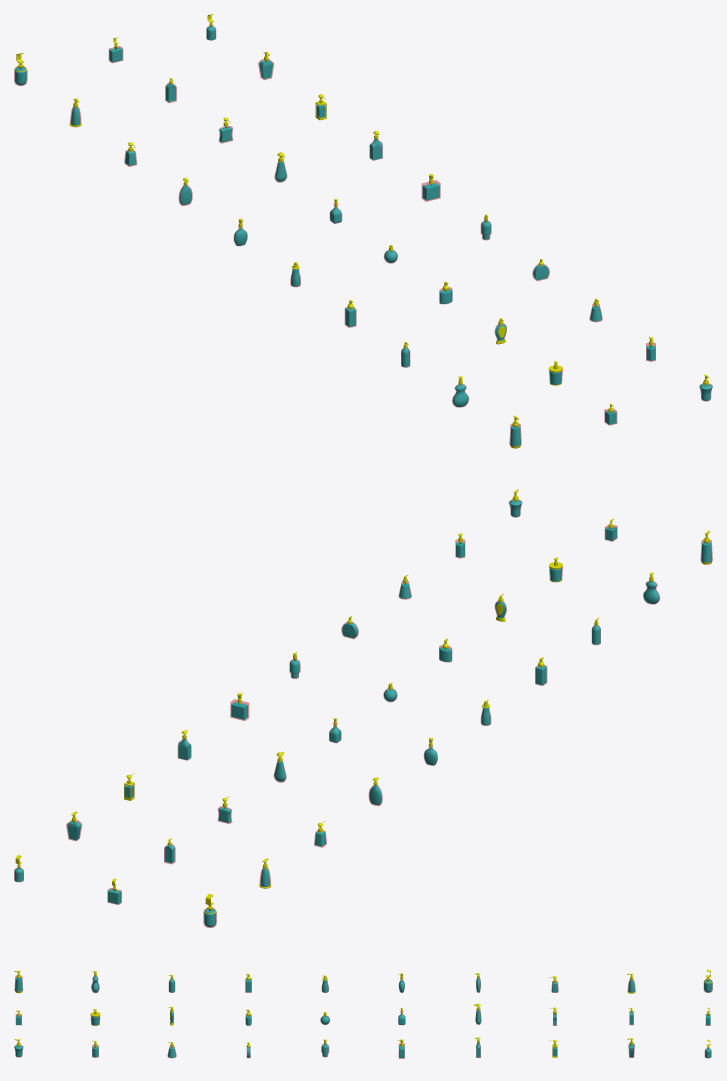
File: soap_bottles_grp.fbx
The picture shows the model from 3 angles, top to bottom: view 1: azimuth 30°, elevation 25°; view 2: azimuth 150°, elevation 25°; view 3: azimuth 270°, elevation 25°; orthographic projection. The views are drawn at different scales.
Bounding box in the file's own units: 2.16 × 0.456 × 9.13.
